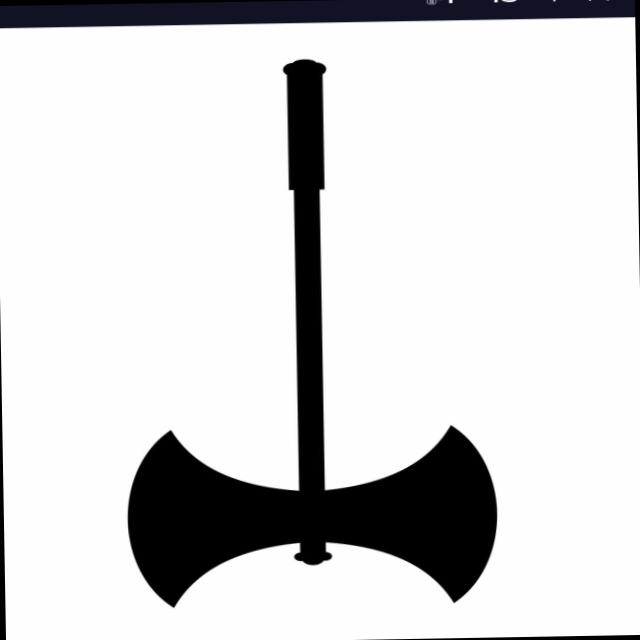Gun: (104, 37, 518, 627)
